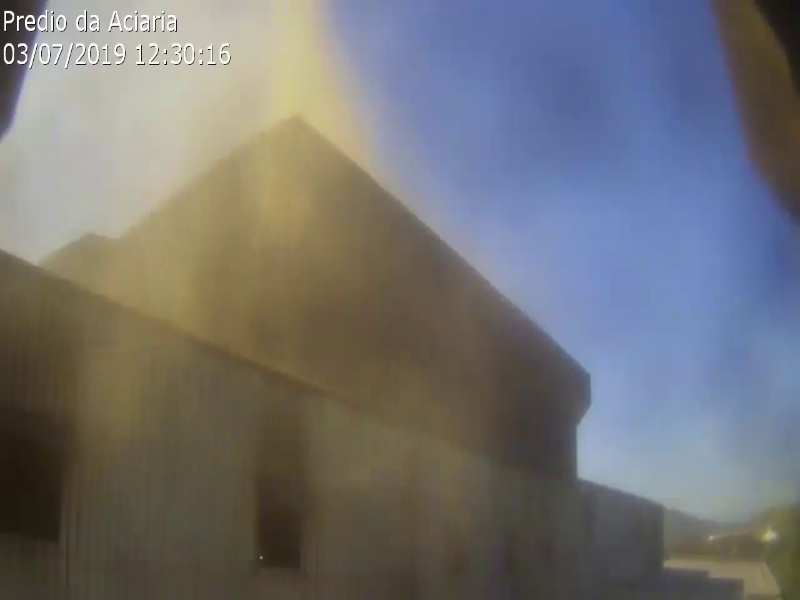Pessimo: (200, 15, 280, 129), (136, 143, 216, 257), (253, 1, 333, 114), (133, 245, 203, 295), (161, 286, 231, 336), (198, 220, 268, 270), (208, 282, 278, 332), (245, 206, 315, 256), (269, 274, 339, 324), (275, 331, 345, 381), (248, 158, 318, 208), (63, 244, 146, 273)
